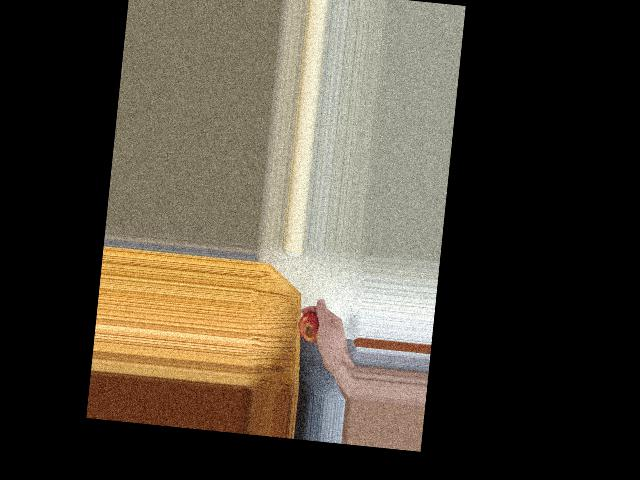apple: (297, 311, 328, 344)
